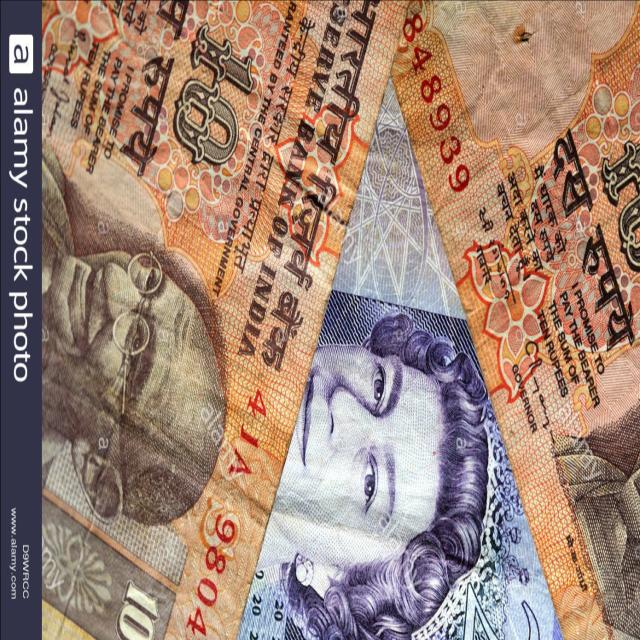10IndianRupees: (41, 0, 403, 640)
